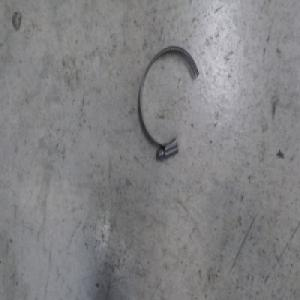AdjustableClamp: (137, 45, 200, 162)
